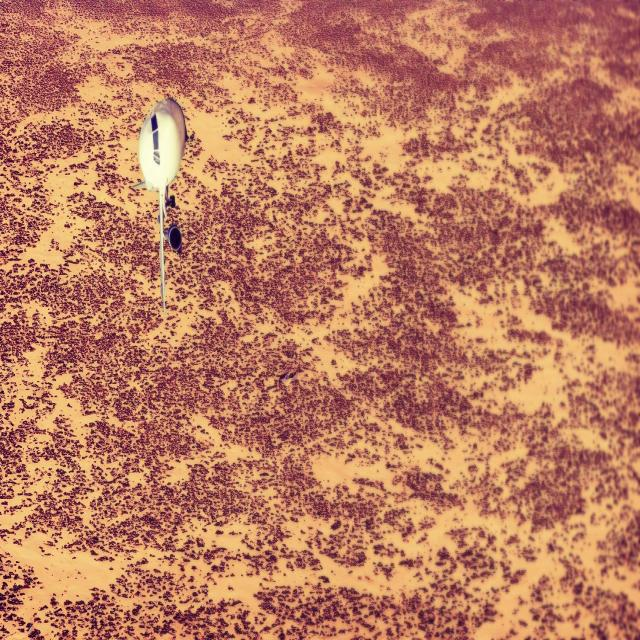airplane: (130, 96, 188, 313)
